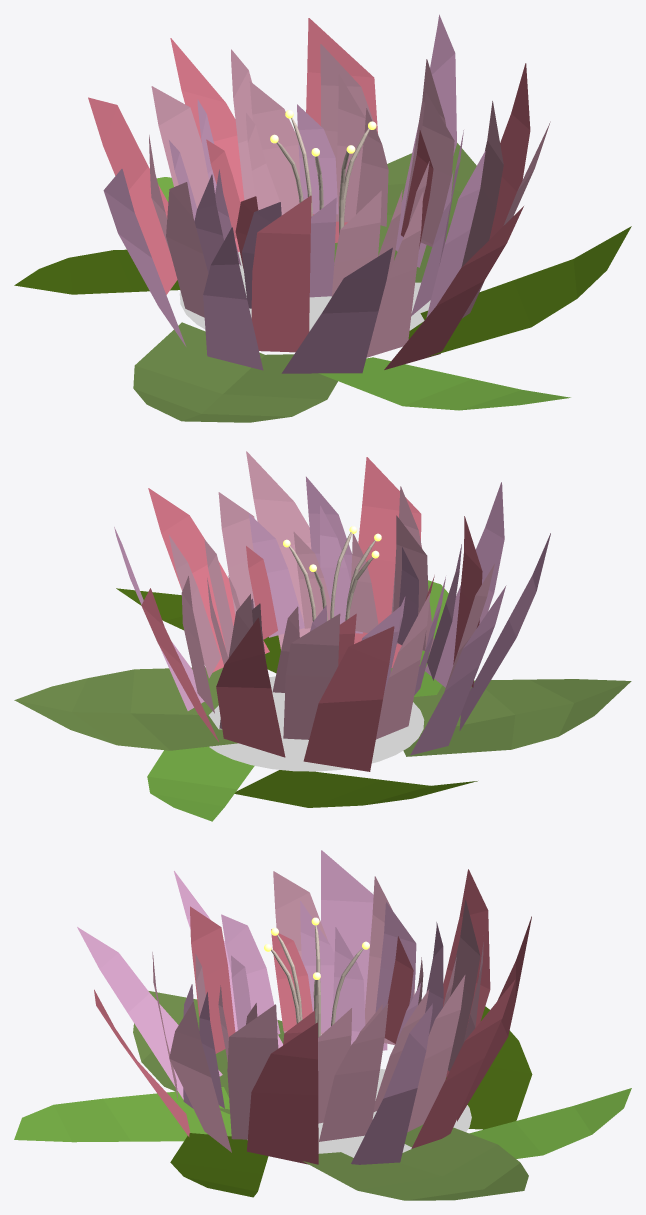
The model's file is flofer.gltf.
The picture shows the model from 3 angles, top to bottom: view 1: azimuth 30°, elevation 25°; view 2: azimuth 150°, elevation 25°; view 3: azimuth 270°, elevation 25°; orthographic projection. The views are drawn at different scales.
Parts seen in each view (by area): view 1: Plane.041, Plane.010, Plane.042, Plane.007, Plane.040, Plane.008, Plane.001, Plane.006, Plane.043, Plane.018, Plane.011, Plane.029 (+32 smaller); view 2: Plane.044, Plane.041, Plane.001, Plane.002, Plane.045, Plane.043, Plane.006, Plane.013, Circle, Plane, Plane.009, Plane.005 (+28 smaller); view 3: Plane.044, Plane.009, Plane.040, Plane.015, Plane.004, Plane.045, Plane.007, Plane, Plane.042, Plane.003, Plane.016, Plane.043 (+23 smaller).
Boxes of the visible parts, bbox=[...] form: Plane.041: bbox=[133, 322, 337, 422]; Plane.010: bbox=[251, 195, 311, 352]; Plane.042: bbox=[408, 226, 631, 356]; Plane.007: bbox=[281, 247, 392, 373]; Plane.040: bbox=[318, 357, 570, 410]; Plane.008: bbox=[203, 227, 263, 370]; Plane.001: bbox=[88, 97, 177, 294]; Plane.006: bbox=[384, 206, 523, 369]; Plane.043: bbox=[14, 249, 179, 294]; Plane.018: bbox=[366, 192, 423, 357]; Plane.011: bbox=[166, 182, 208, 317]; Plane.029: bbox=[249, 81, 300, 213]; Plane.044: bbox=[14, 667, 237, 750]; Plane.041: bbox=[403, 679, 631, 756]; Plane.001: bbox=[303, 626, 394, 771]; Plane.002: bbox=[216, 617, 285, 757]; Plane.045: bbox=[147, 746, 254, 821]; Plane.043: bbox=[234, 770, 477, 807]; Plane.006: bbox=[354, 457, 421, 667]; Plane.013: bbox=[283, 613, 340, 739]; Circle: bbox=[208, 676, 424, 771]; Plane: bbox=[410, 585, 506, 755]; Plane.009: bbox=[148, 488, 269, 672]; Plane.005: bbox=[246, 451, 311, 649]; Plane.044: bbox=[303, 1124, 528, 1200]; Plane.009: bbox=[247, 1022, 318, 1164]; Plane.040: bbox=[14, 1087, 231, 1142]; Plane.015: bbox=[319, 1004, 388, 1141]; Plane.004: bbox=[351, 1003, 432, 1164]; Plane.045: bbox=[469, 1088, 631, 1158]; Plane.007: bbox=[77, 927, 222, 1099]; Plane: bbox=[321, 850, 387, 1050]; Plane.042: bbox=[170, 1133, 268, 1197]; Plane.003: bbox=[411, 980, 514, 1148]; Plane.016: bbox=[227, 1004, 278, 1139]; Plane.043: bbox=[446, 1006, 532, 1129].
Bounding box in the file's own units: 2.7 × 1.17 × 3.05.
